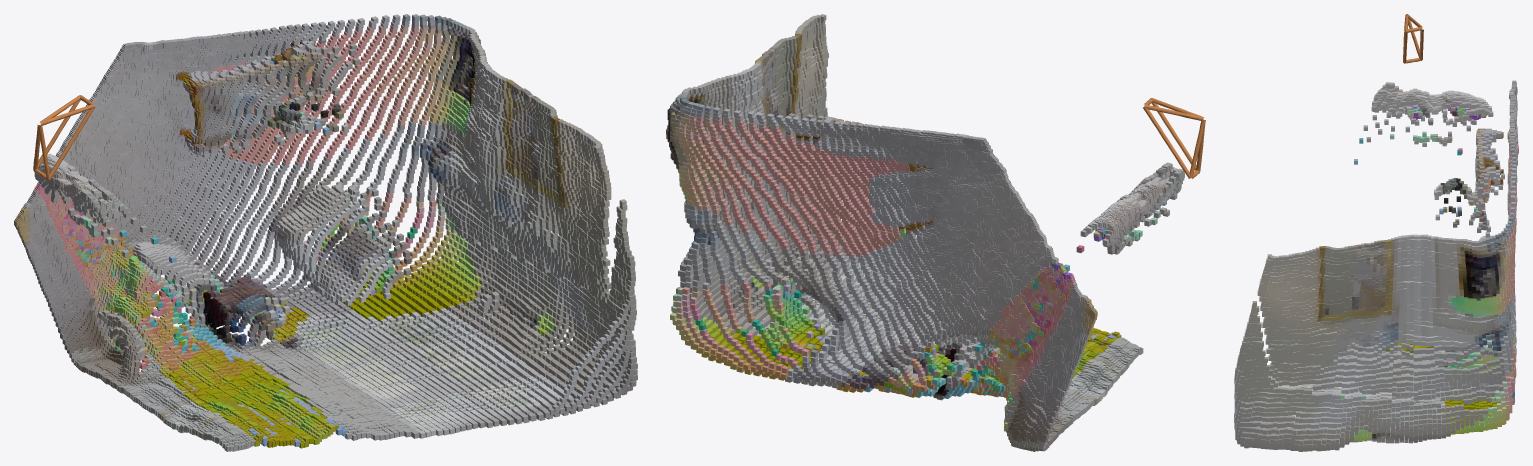
The model's file is pred_1-compressed.glb.
The picture shows the model from 3 angles, left to right: view 1: azimuth 30°, elevation 25°; view 2: azimuth 150°, elevation 25°; view 3: azimuth 270°, elevation 25°; orthographic projection. The views are drawn at different scales.
Bounding box in the file's own units: 5.38 × 3.43 × 3.36.
